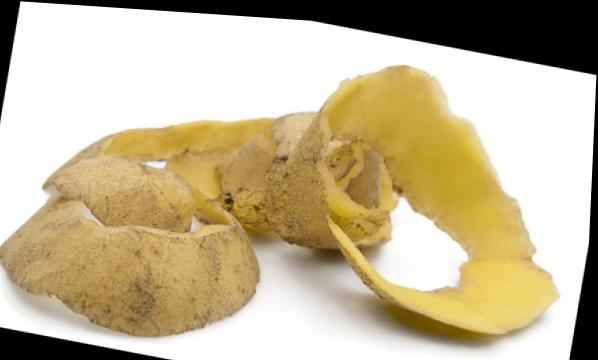organic: (0, 3, 594, 359)
